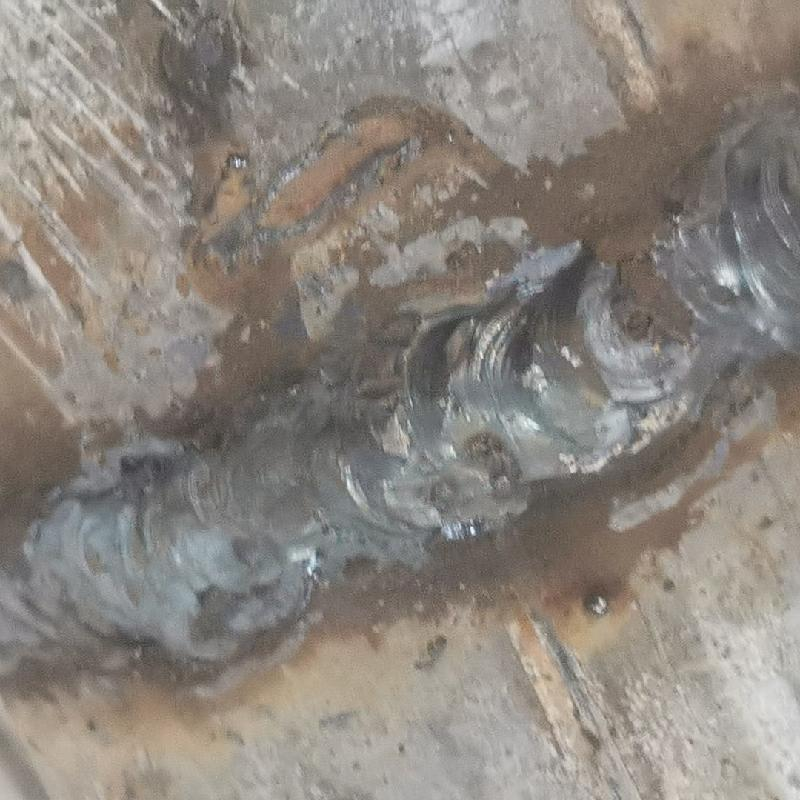good: (5, 130, 794, 688)
